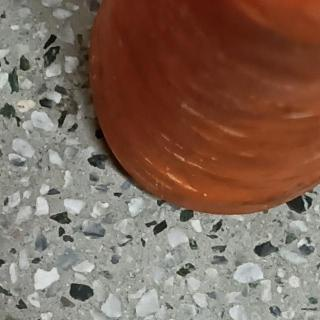carrot: (81, 0, 320, 220)
